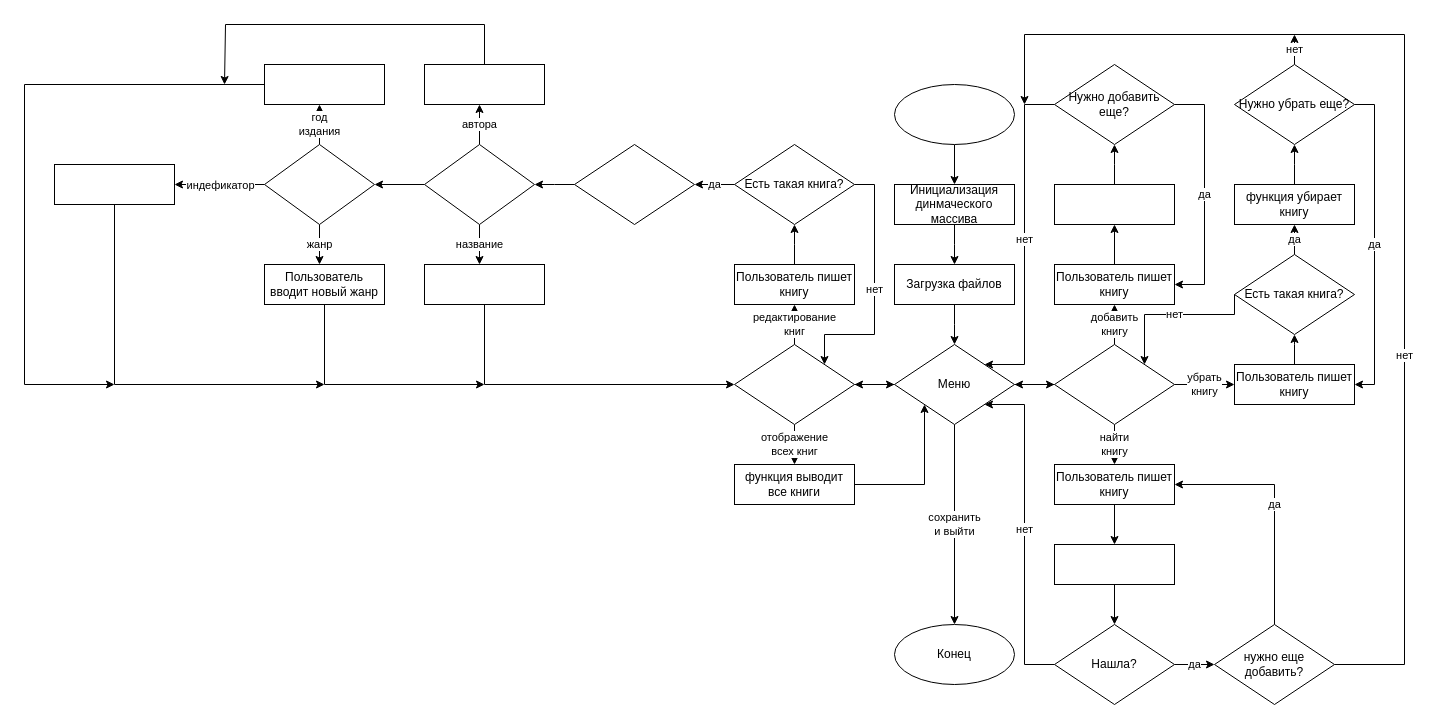
Some shapes in this 1430 by 722 pixel diagram are drawn without their labels. The shapes that lost their labels are listed below. From the top down, each one's centre as x and y in pixels, then its label:
[324,84]: Пользователь вводит новый год издания
[484,84]: Пользователь вводит нового автора
[954,114]: Начало
[114,184]: Пользователь вводит новый индификатор
[634,184]: Что нужно отредактировать?
[1114,204]: функция добавляет книгу
[484,284]: Пользователь вводит новое название
[1114,564]: функция ищет книгу
